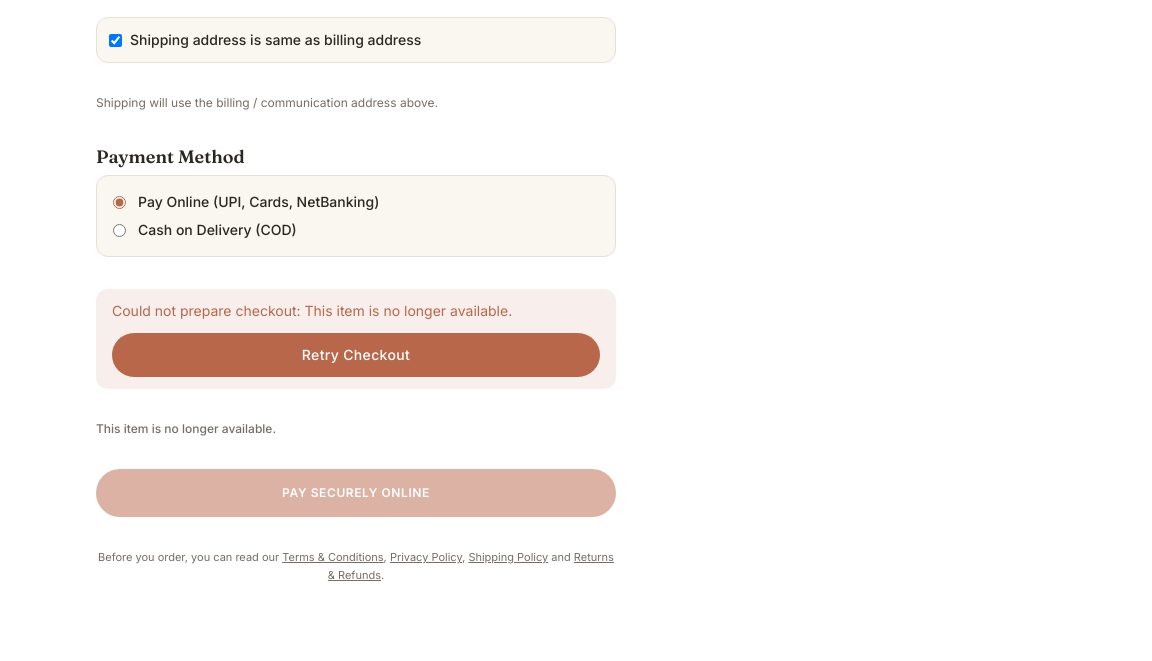
Test: CheckoutPage › shows a visible, safe error and a Retry Checkout button when the preview request fails, and retry re-fetches it
The image size is (1152, 661).
(page scrolled)
Expected: the text "Could not prepare checkout: This item is no longer available. Retry Checkout" is shown, [96,289,616,389]
Click the button "Retry Checkout" at (356, 355), box [112,333,600,377]
(page scrolled)
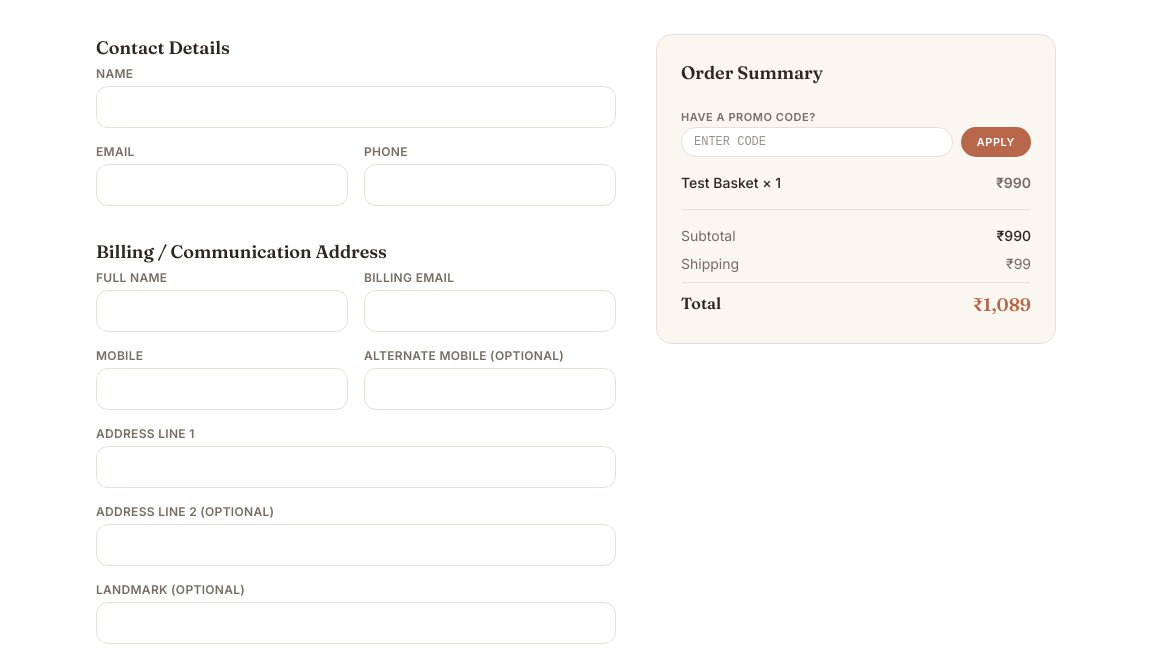
Now the text "₹1,089" is shown, box [973,291,1031,319]
